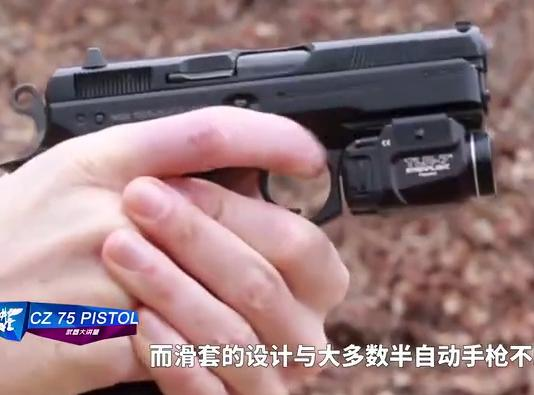gun: (1, 1, 534, 395)
